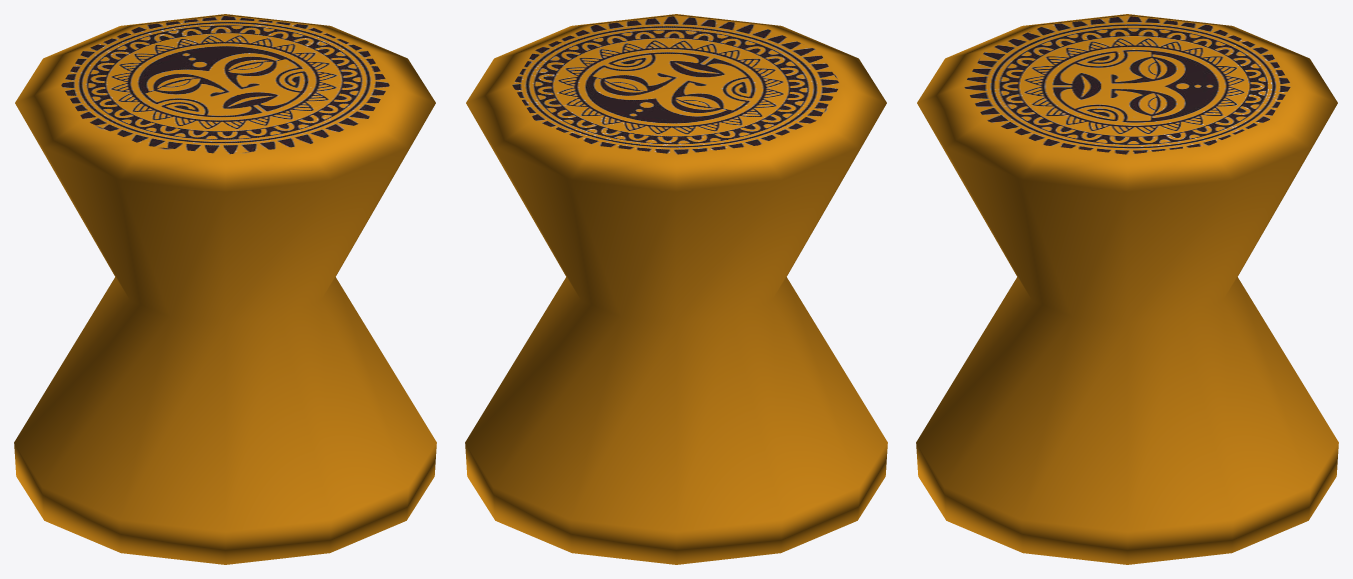
File: tiki_bumper.fbx
The picture shows the model from 3 angles, left to right: view 1: azimuth 30°, elevation 25°; view 2: azimuth 150°, elevation 25°; view 3: azimuth 270°, elevation 25°; orthographic projection.
Parts seen in each view (by area): view 1: pCylinder1; view 2: pCylinder1; view 3: pCylinder1.
Part boxes in pixels (bbox=[...]): pCylinder1: bbox=[14, 14, 436, 564]; pCylinder1: bbox=[465, 14, 887, 564]; pCylinder1: bbox=[916, 14, 1338, 564].
Bounding box in the file's own units: 3.59 × 3.67 × 3.59.
1 material, 1 textured.
